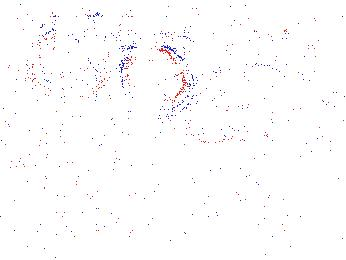moon jellyfish: (188, 63, 291, 144), (26, 29, 113, 101), (121, 44, 195, 118), (257, 48, 336, 102)
